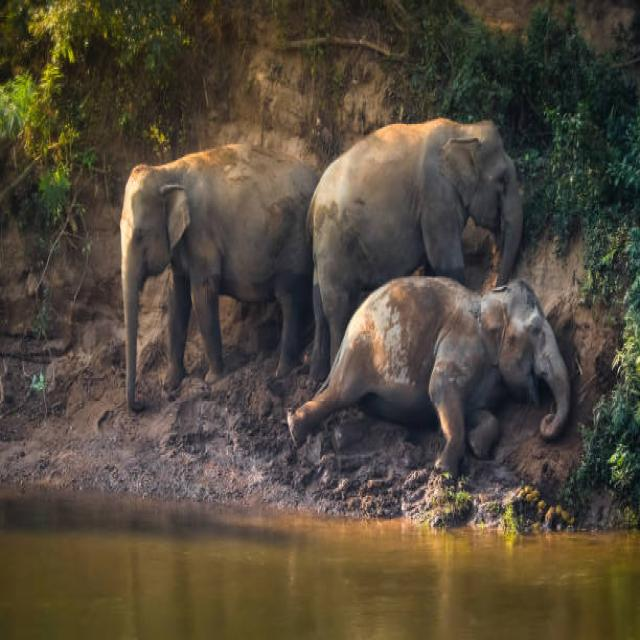Elephant: (290, 272, 570, 488), (112, 132, 306, 422), (316, 112, 530, 283)
